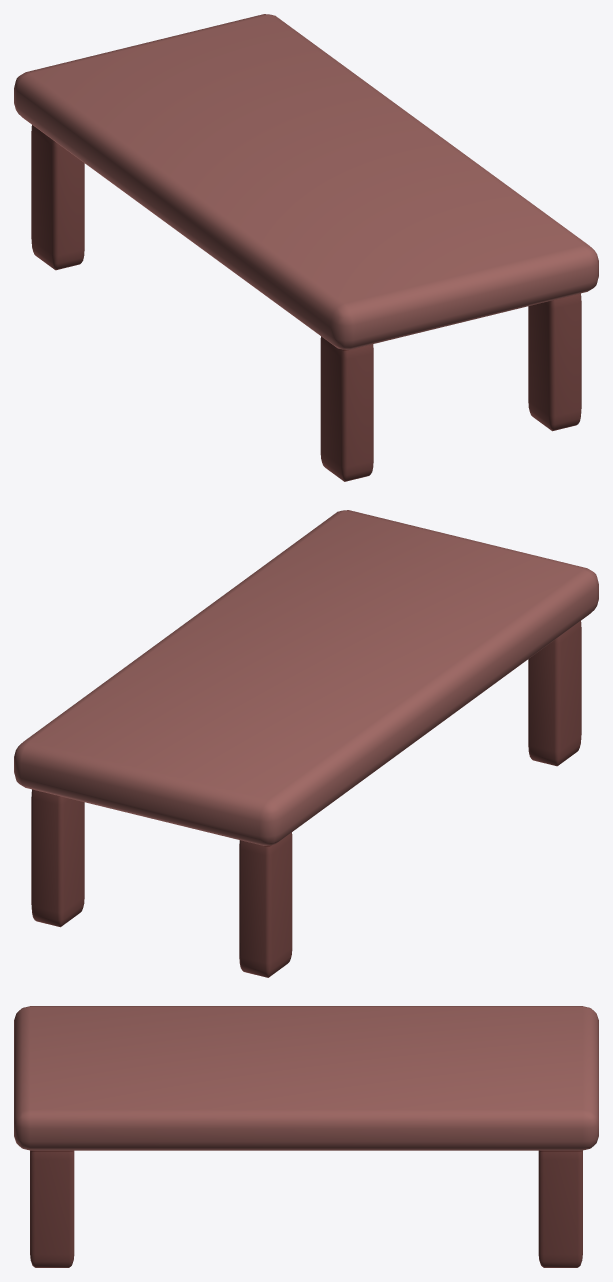
Rendered from 3d_Desk.fbx.
The picture shows the model from 3 angles, top to bottom: view 1: azimuth 30°, elevation 25°; view 2: azimuth 150°, elevation 25°; view 3: azimuth 270°, elevation 25°; orthographic projection. The views are drawn at different scales.
Parts seen in each view (by area): view 1: 3d_Desk; view 2: 3d_Desk; view 3: 3d_Desk.
Boxes of the visible parts, box(x1,y1,x2,y2) form: 3d_Desk: box(14, 14, 598, 481); 3d_Desk: box(14, 510, 598, 977); 3d_Desk: box(14, 1006, 598, 1267).
Bounding box in the file's own units: 0.602 × 0.3934 × 1.31.
